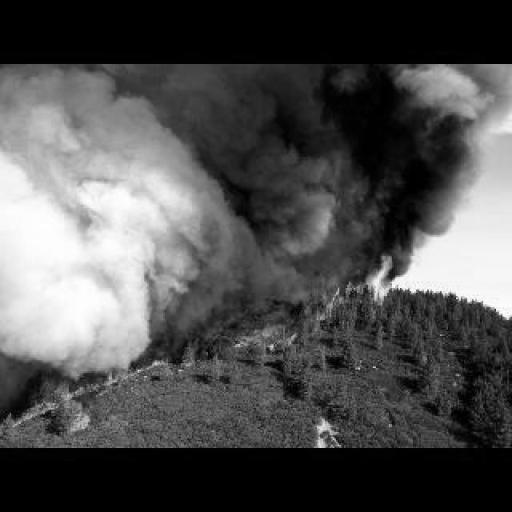smoke: (181, 61, 510, 280), (14, 352, 173, 435), (310, 252, 396, 334)
